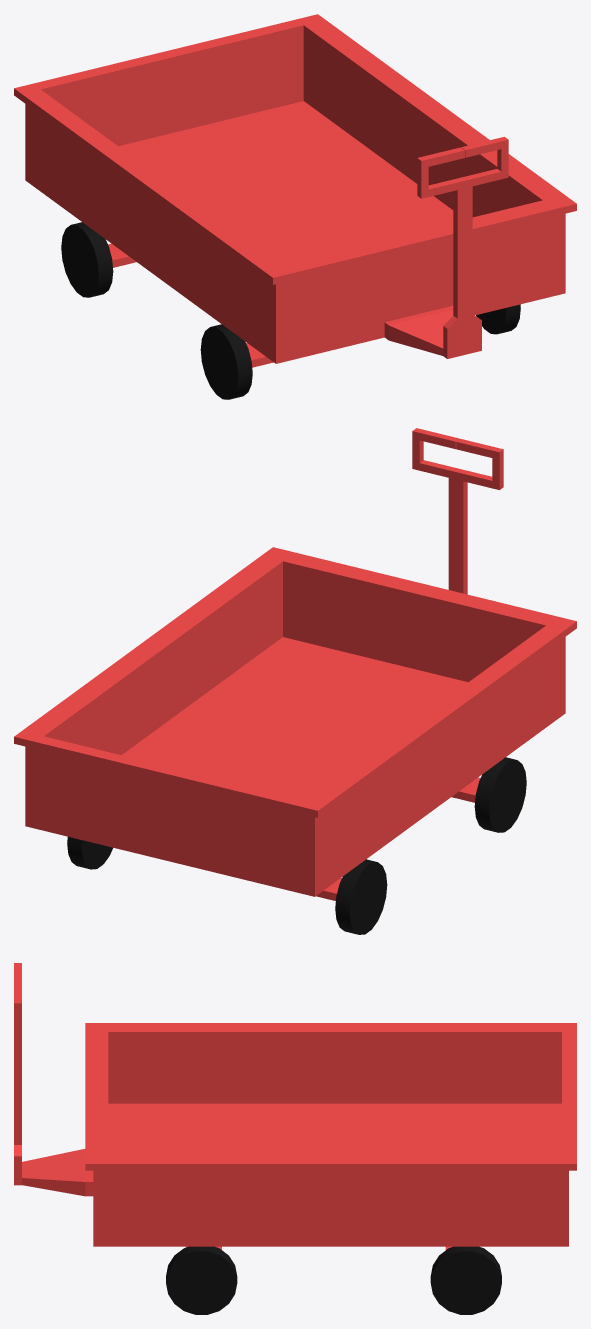
Rendered from carritoconruedas.FBX.
3 renders of one model, top to bottom at view 1: azimuth 30°, elevation 25°; view 2: azimuth 150°, elevation 25°; view 3: azimuth 270°, elevation 25°, orthographic. The views are drawn at different scales.
Parts seen in each view (by area): view 1: Box001, Cylinder003, Cylinder004, Cylinder001; view 2: Box001, Cylinder004, Cylinder003, Cylinder002; view 3: Box001, Cylinder001, Cylinder002.
Boxes of the visible parts, box(x1,y1,x2,y2) form: Box001: box(14, 14, 576, 367); Cylinder003: box(61, 222, 113, 297); Cylinder004: box(200, 324, 252, 399); Cylinder001: box(476, 304, 520, 334); Box001: box(14, 428, 576, 900); Cylinder004: box(474, 757, 526, 832); Cylinder003: box(335, 859, 387, 934); Cylinder002: box(67, 837, 112, 869); Box001: box(14, 963, 576, 1249); Cylinder001: box(166, 1246, 237, 1314); Cylinder002: box(430, 1246, 501, 1314).
Bounding box in the file's own units: 42 × 37.39 × 71.
